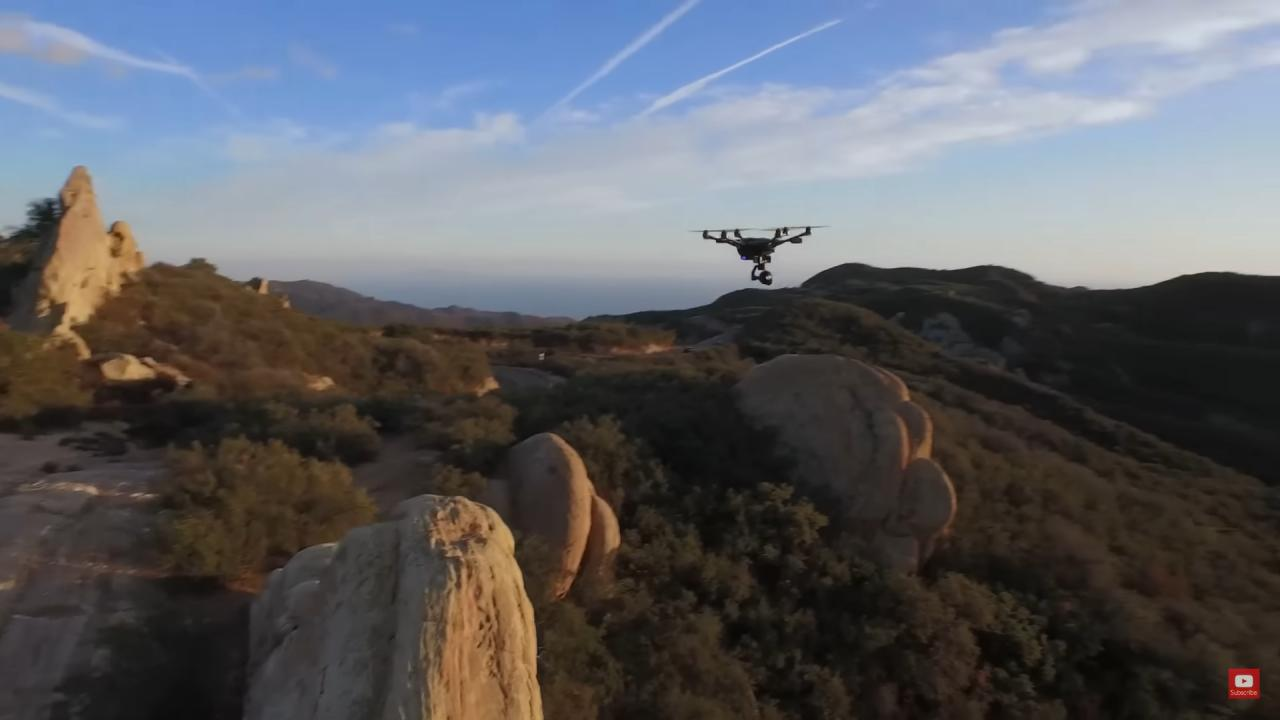Drone: (682, 220, 838, 295)
